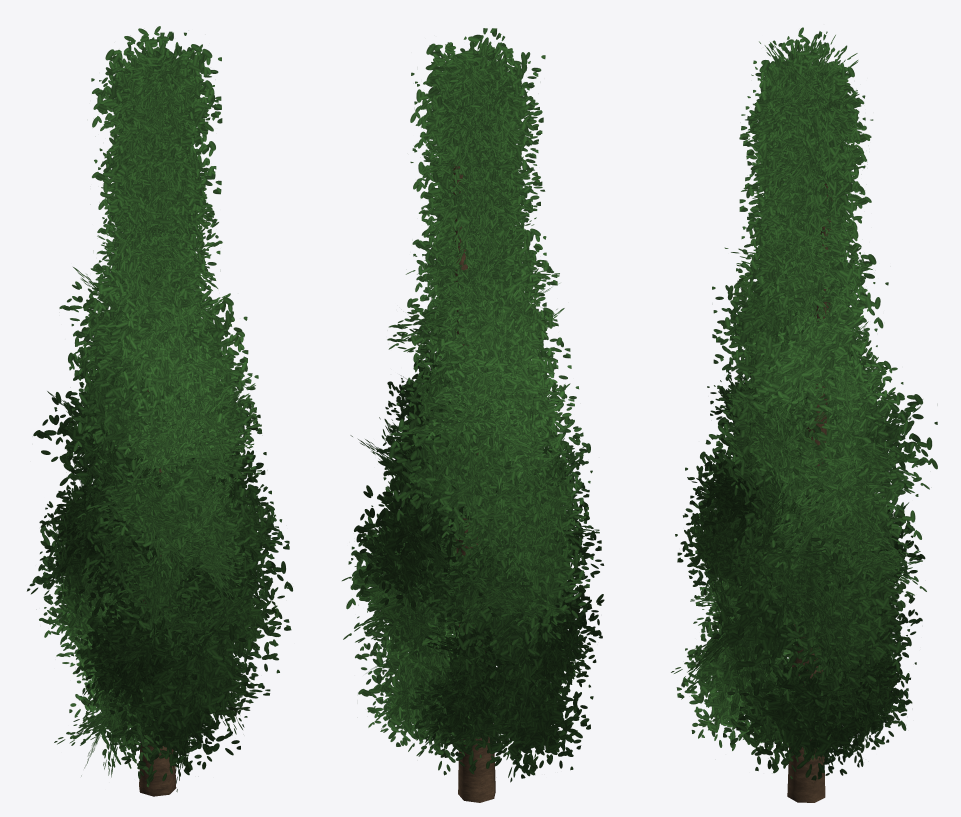
Rendered from tree_cypress.glb.
3 views of the same model, side by side, from view 1: azimuth 30°, elevation 25°; view 2: azimuth 150°, elevation 25°; view 3: azimuth 270°, elevation 25° (orthographic).
Parts seen in each view (by area): view 1: tree_cypress; view 2: tree_cypress; view 3: tree_cypress.
Part boxes in pixels (left/top/right/bottom): tree_cypress: left=27, top=26, right=292, bottom=796; tree_cypress: left=342, top=28, right=604, bottom=802; tree_cypress: left=671, top=27, right=937, bottom=802.
Size of the model in its own units: 2.93 by 8.54 by 2.99.
2 materials, 2 textured.
